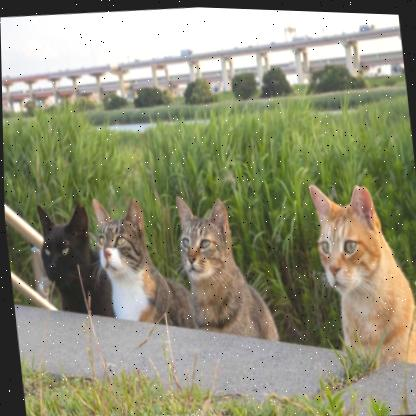cat: (308, 177, 416, 333), (173, 189, 273, 333), (91, 192, 168, 322), (34, 199, 100, 313)
